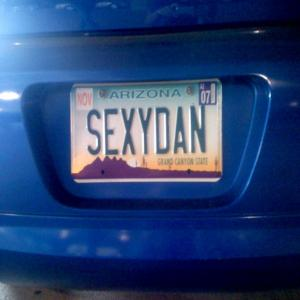Vehicle-registration-plate: (72, 82, 224, 184)
